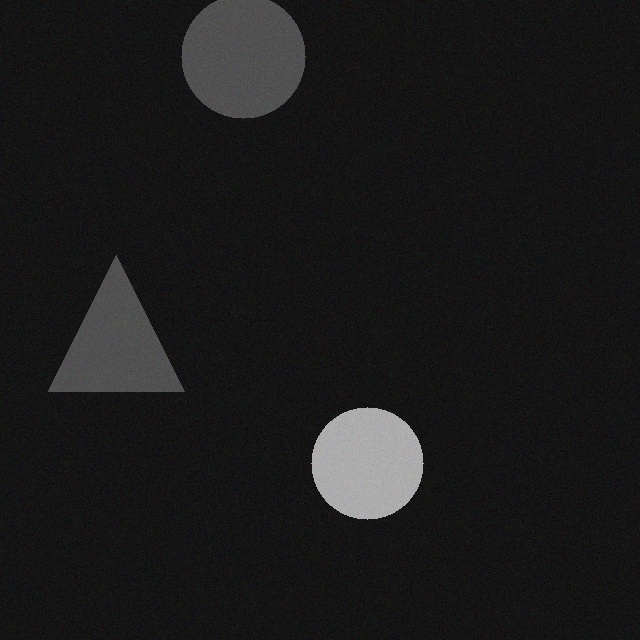circle: (193, 5, 317, 129), (323, 418, 435, 530)
triangle: (60, 266, 196, 402)
